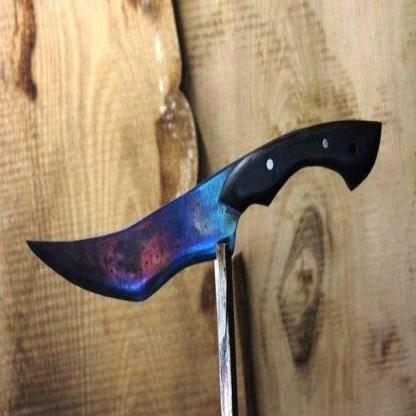Knife: (25, 118, 386, 308)
